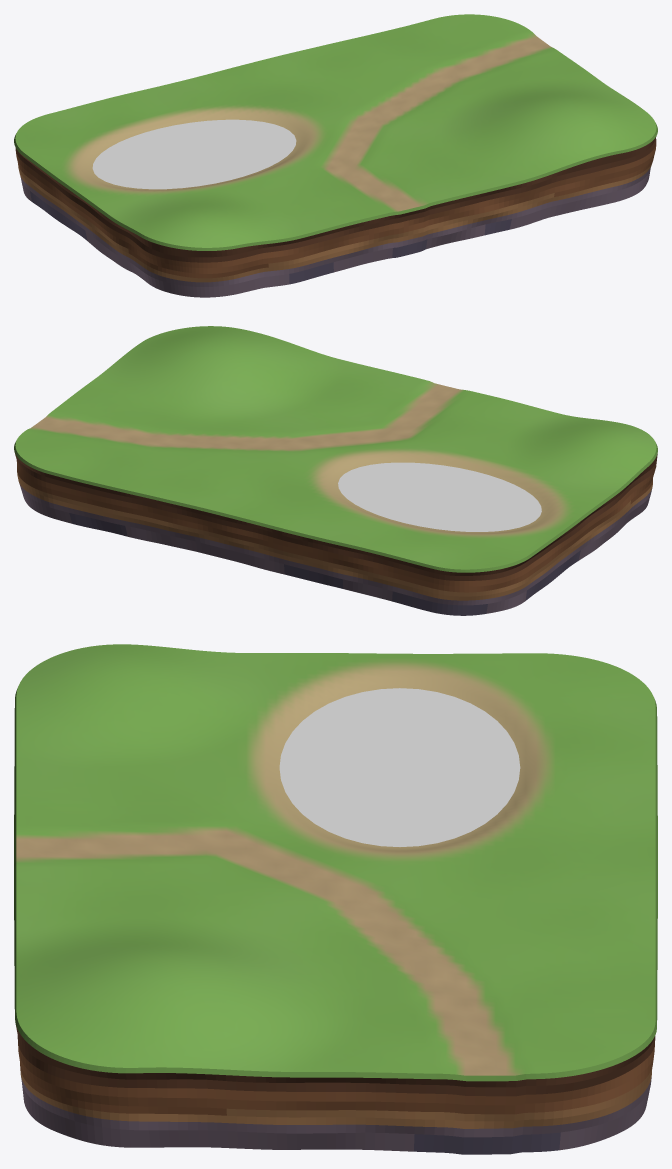
Rendered from terrain_proto.fbx.
3 views of the same model, one above another, from view 1: azimuth 30°, elevation 25°; view 2: azimuth 150°, elevation 25°; view 3: azimuth 270°, elevation 25° (orthographic). The views are drawn at different scales.
Visible parts, largest first — view 1: Ground, Water_pond; view 2: Ground, Water_pond; view 3: Ground, Water_pond.
Boxes of the visible parts, x1,y1,x2,y2 form: Ground: (14,14,657,297); Water_pond: (92,119,296,189); Ground: (14,326,657,615); Water_pond: (338,462,541,531); Ground: (14,644,657,1154); Water_pond: (279,688,520,846).
Size of the model in its own units: 14.07 by 1.87 by 9.07.
